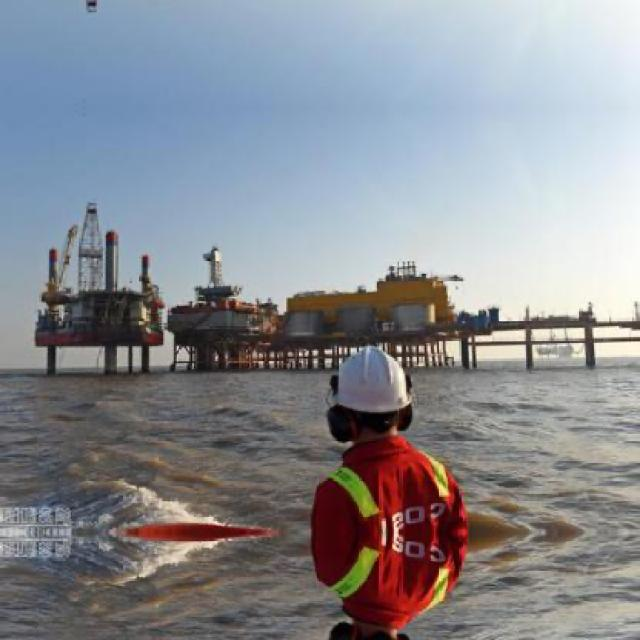con casco: (322, 310, 474, 446)
